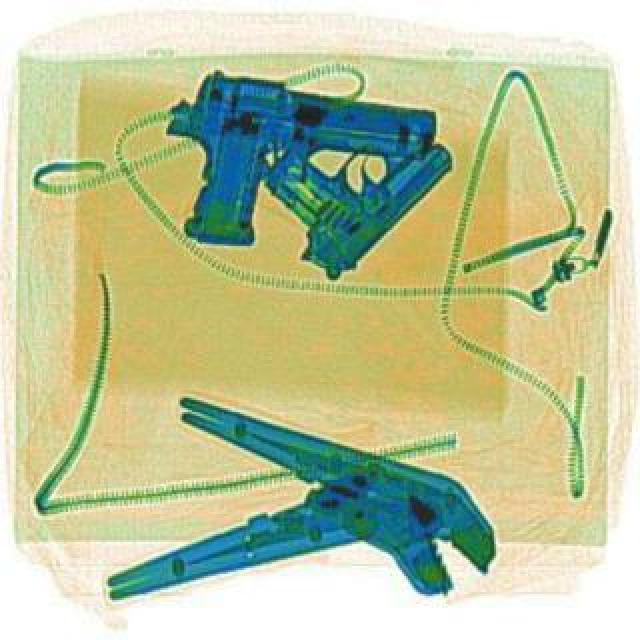gun: (166, 64, 440, 272), (242, 78, 462, 278)
